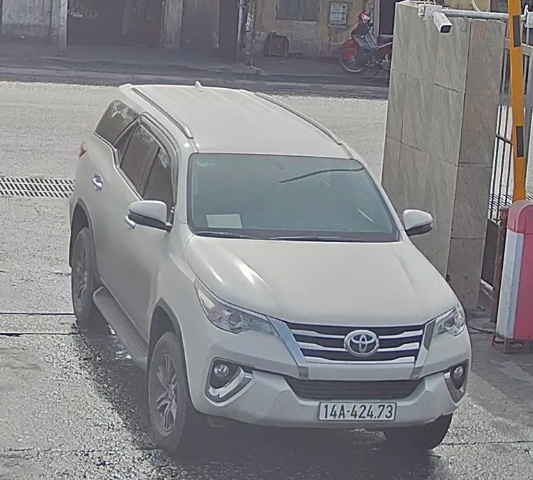vehicle plate: (312, 395, 402, 427)
